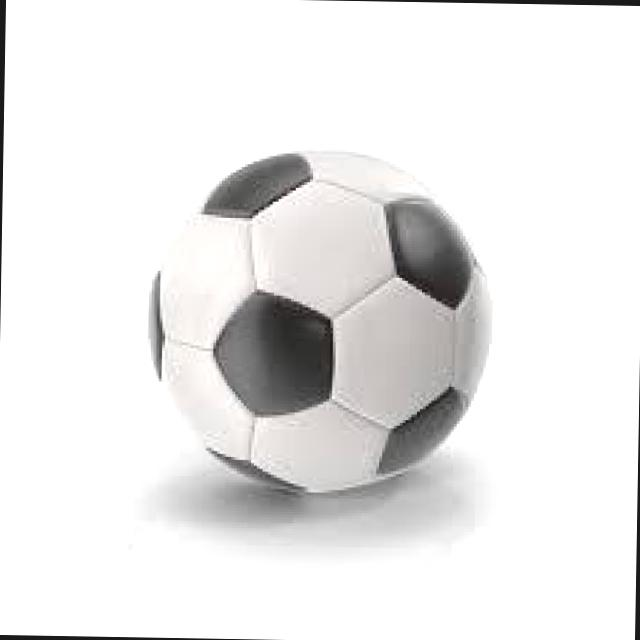Soccer Ball: (145, 150, 495, 500)
